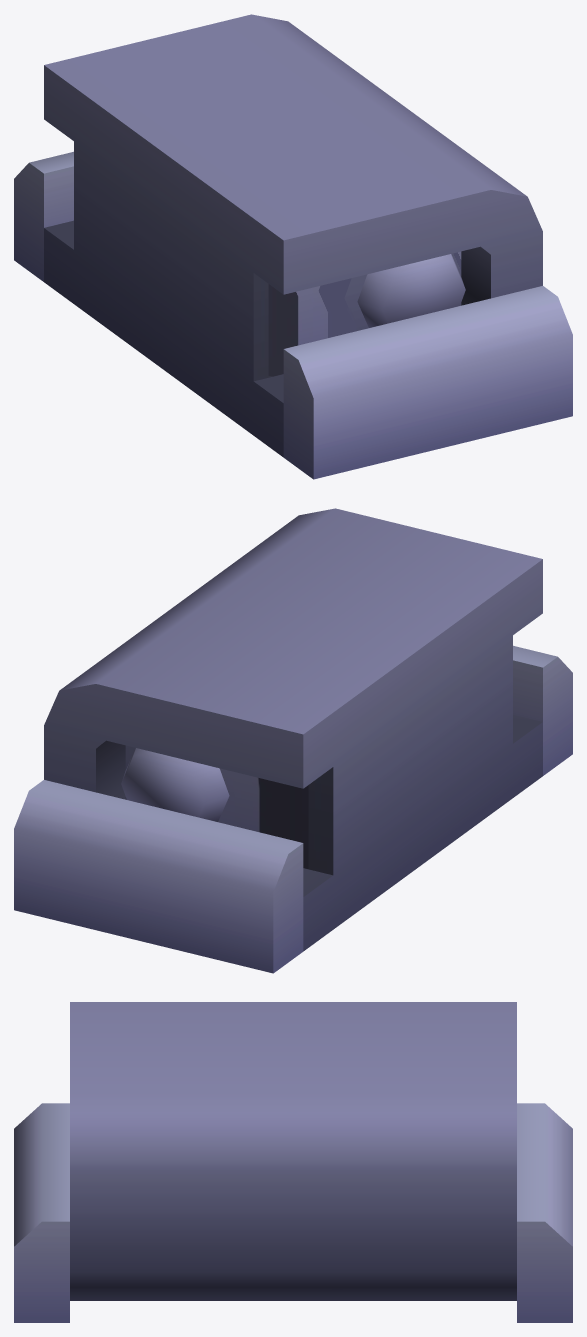
File: kenney-conveyor-conveyor-long-sides-part-end.glb
3 renders of one model, top to bottom at view 1: azimuth 30°, elevation 25°; view 2: azimuth 150°, elevation 25°; view 3: azimuth 270°, elevation 25°, orthographic. The views are drawn at different scales.
Visible parts, largest first — view 1: conveyor-long-sides-part-end; view 2: conveyor-long-sides-part-end; view 3: conveyor-long-sides-part-end.
Boxes of the visible parts, x1,y1,x2,y2 form: conveyor-long-sides-part-end: (14,14,572,479); conveyor-long-sides-part-end: (14,508,572,973); conveyor-long-sides-part-end: (14,1002,572,1322).
Size of the model in its own units: 0.5001 by 0.3999 by 1.
Materials: 1 (1 with a texture image).
